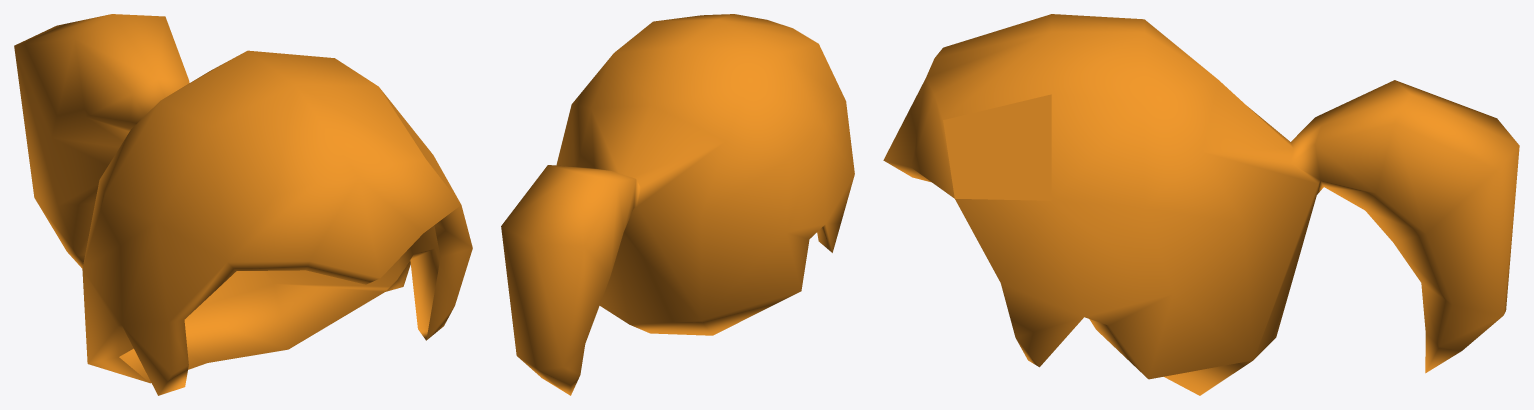
The model's file is HairPonytailBlonde.fbx.
3 renders of one model, left to right at view 1: azimuth 30°, elevation 25°; view 2: azimuth 150°, elevation 25°; view 3: azimuth 270°, elevation 25°, orthographic. The views are drawn at different scales.
Parts seen in each view (by area): view 1: HairPonytailBlonde; view 2: HairPonytailBlonde; view 3: HairPonytailBlonde.
Boxes of the visible parts, box(x1,y1,x2,y2) form: HairPonytailBlonde: box(14, 14, 472, 395); HairPonytailBlonde: box(501, 14, 854, 395); HairPonytailBlonde: box(883, 14, 1519, 395).
Bounding box in the file's own units: 50 × 52.63 × 88.87.
